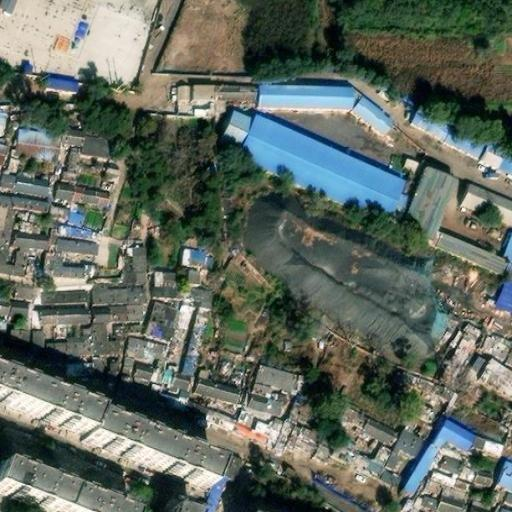building: (0, 377, 213, 485), (231, 119, 396, 225), (400, 419, 469, 496), (395, 170, 452, 246), (424, 237, 500, 280), (252, 84, 345, 114), (454, 184, 512, 228), (317, 440, 380, 479), (194, 368, 251, 406), (7, 127, 59, 166), (438, 325, 472, 380), (380, 427, 420, 472), (127, 380, 186, 409), (349, 99, 392, 137), (182, 397, 236, 426), (440, 122, 485, 156), (475, 362, 512, 403), (143, 300, 178, 343), (215, 110, 249, 154), (232, 406, 280, 437), (181, 311, 204, 375), (407, 105, 448, 139), (92, 312, 127, 351), (41, 251, 86, 280), (126, 333, 167, 362), (486, 265, 512, 310), (31, 305, 88, 325), (88, 283, 144, 302), (358, 419, 396, 447), (120, 244, 145, 285), (251, 364, 293, 388), (77, 131, 109, 160), (44, 236, 89, 256), (151, 268, 183, 296), (64, 358, 101, 382), (7, 177, 48, 196), (68, 187, 106, 207), (166, 494, 207, 512), (212, 83, 252, 101), (0, 239, 19, 276), (119, 355, 137, 392), (46, 226, 90, 241), (46, 282, 89, 297), (471, 459, 499, 482), (479, 335, 505, 359), (110, 301, 143, 319), (2, 196, 39, 212), (39, 82, 71, 100), (6, 328, 29, 351), (40, 339, 77, 353), (404, 149, 427, 171), (179, 247, 203, 268), (471, 435, 496, 455), (371, 442, 390, 468), (3, 294, 26, 315), (75, 160, 98, 180), (104, 360, 119, 388), (0, 100, 12, 135), (468, 497, 496, 512), (434, 498, 461, 512), (14, 239, 45, 251), (246, 394, 266, 412), (375, 468, 394, 485), (52, 184, 70, 201), (9, 247, 24, 267), (7, 281, 27, 296), (98, 167, 114, 185), (498, 346, 512, 366), (47, 207, 65, 222), (498, 488, 512, 505), (32, 330, 41, 354), (64, 212, 78, 223), (0, 175, 9, 189)
